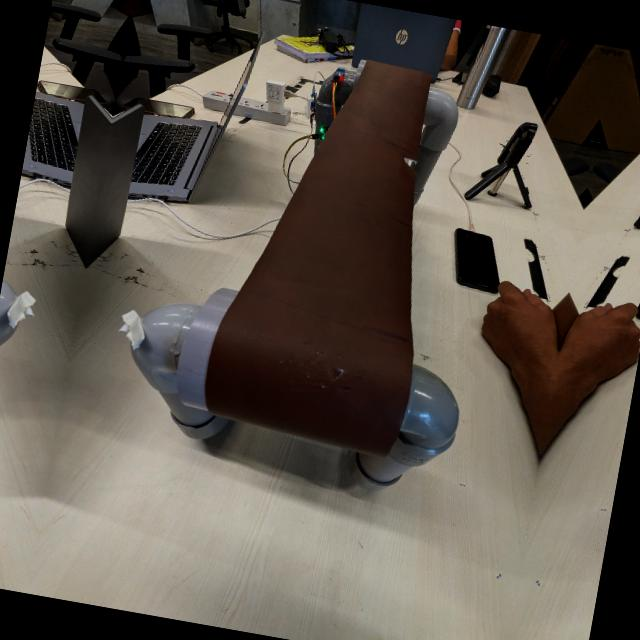belt_crack: (246, 316, 413, 430)
edge_damage: (399, 149, 425, 173)
